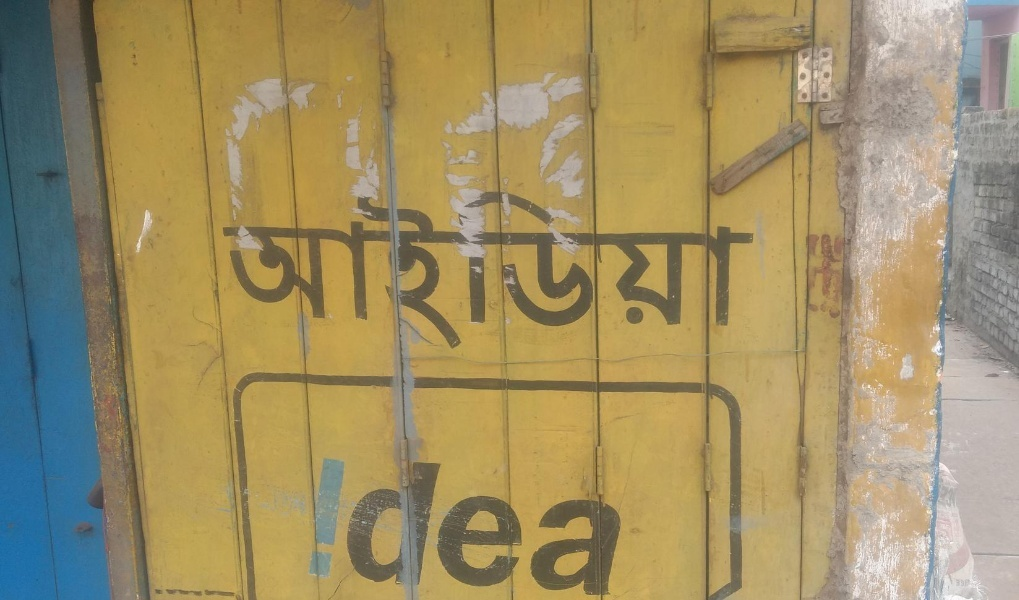text: (225, 181, 240, 359), (241, 181, 256, 359), (257, 181, 272, 359), (273, 181, 288, 359), (289, 181, 304, 359), (305, 181, 320, 359), (321, 181, 336, 359), (337, 181, 352, 359), (353, 181, 368, 359), (369, 181, 384, 359), (385, 181, 400, 359), (401, 181, 416, 359), (417, 181, 432, 359), (433, 181, 448, 359), (449, 181, 464, 359), (465, 181, 480, 359), (481, 181, 496, 359), (497, 181, 512, 359), (513, 181, 528, 359), (529, 181, 544, 359), (545, 181, 560, 359), (561, 181, 576, 359), (577, 181, 592, 359), (593, 181, 608, 359), (609, 181, 624, 359), (625, 181, 640, 359), (641, 181, 656, 359), (657, 181, 672, 359), (673, 181, 688, 359), (689, 181, 704, 359), (705, 181, 720, 359), (721, 181, 736, 359), (737, 181, 752, 359), (321, 449, 336, 600), (337, 449, 352, 600), (353, 449, 368, 600), (369, 449, 384, 600), (385, 449, 400, 600), (401, 449, 416, 600), (417, 449, 432, 600), (433, 449, 448, 600), (449, 449, 464, 600), (465, 449, 480, 600), (481, 449, 496, 600), (497, 449, 512, 600), (513, 449, 528, 600), (529, 449, 544, 600), (545, 449, 560, 600), (561, 449, 576, 600), (577, 449, 592, 600), (593, 449, 608, 600), (609, 449, 624, 600), (213, 181, 224, 359), (625, 449, 635, 600), (312, 449, 320, 600), (753, 181, 759, 359)
